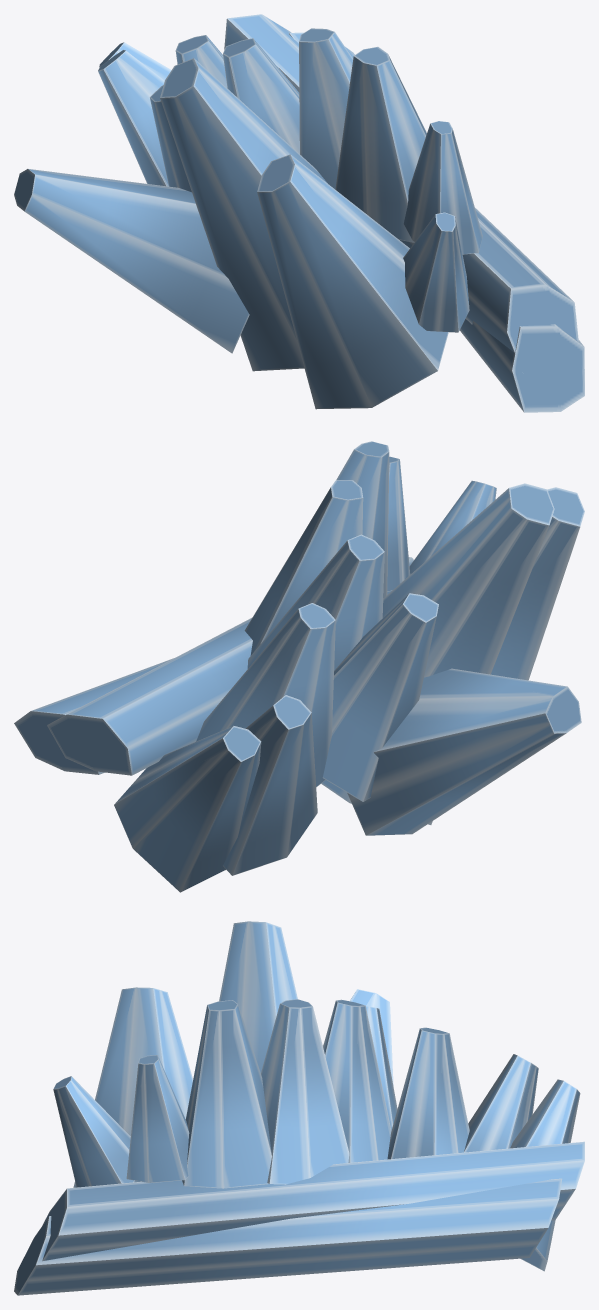
Rendered from wall_railing_06.fbx.
The picture shows the model from 3 angles, top to bottom: view 1: azimuth 30°, elevation 25°; view 2: azimuth 150°, elevation 25°; view 3: azimuth 270°, elevation 25°; orthographic projection. The views are drawn at different scales.
Visible parts, largest first — view 1: wall_railing_06; view 2: wall_railing_06; view 3: wall_railing_06.
Boxes of the visible parts, bbox=[...] form: wall_railing_06: bbox=[14, 14, 584, 412]; wall_railing_06: bbox=[14, 441, 584, 892]; wall_railing_06: bbox=[14, 921, 584, 1295].
Bounding box in the file's own units: 1.05 × 0.7708 × 1.34.
1 material, 1 textured.
